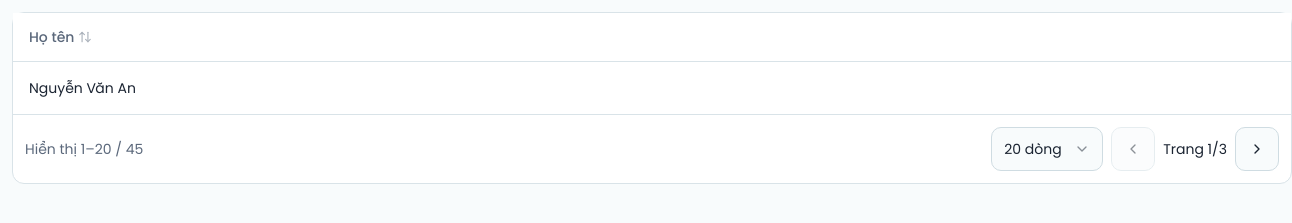
Test: DataTable › hiện dữ liệu, ẩn cột không có quyền, sắp xếp và chuyển trang ghi lên URL
Expected: the text "Nguyễn Văn An" is shown, 13,61 -> 1291,114
Expected: the text "Hiển thị 1–20 / 45" is shown, 25,138 -> 143,158
Click the button "Họ tên".
click(61, 37)  # box 29,15 -> 92,59
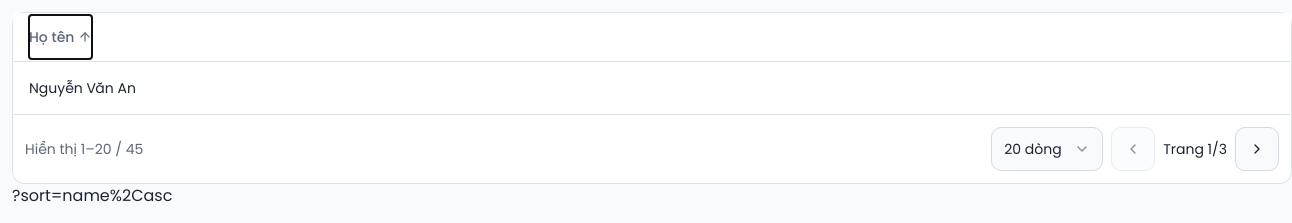
Now the text with test id "url" shows "sort=name%2Casc", box 12,184 -> 172,206
Click the button named "Trang sau".
click(1257, 148)  # box 1235,126 -> 1279,170
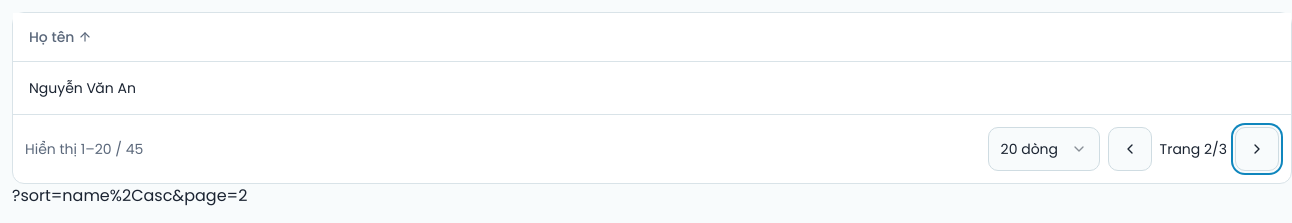
Now the text with test id "url" shows "page=2", box 12,184 -> 247,206
